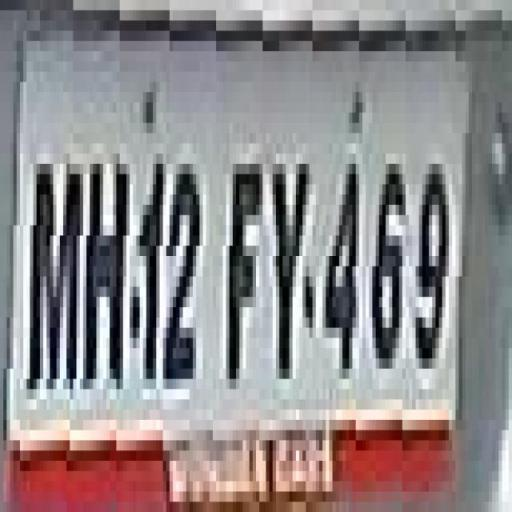number plate: (0, 20, 495, 482)
